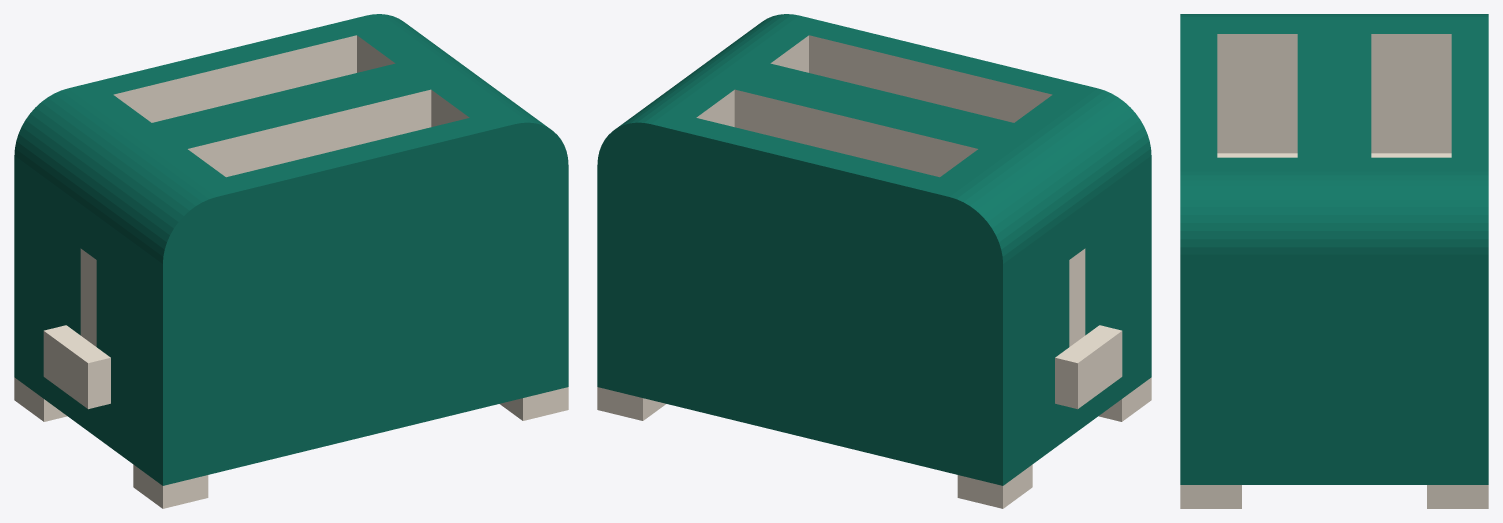
Rendered from toaster_a.glb.
3 renders of one model, left to right at view 1: azimuth 30°, elevation 25°; view 2: azimuth 150°, elevation 25°; view 3: azimuth 270°, elevation 25°, orthographic. The views are drawn at different scales.
Parts seen in each view (by area): view 1: body; view 2: body; view 3: body.
Boxes of the visible parts, x1,y1,x2,y2 form: body: [14, 14, 568, 508]; body: [597, 14, 1151, 508]; body: [1180, 14, 1488, 508].
Bounding box in the file's own units: 0.3 × 0.2 × 0.18.
